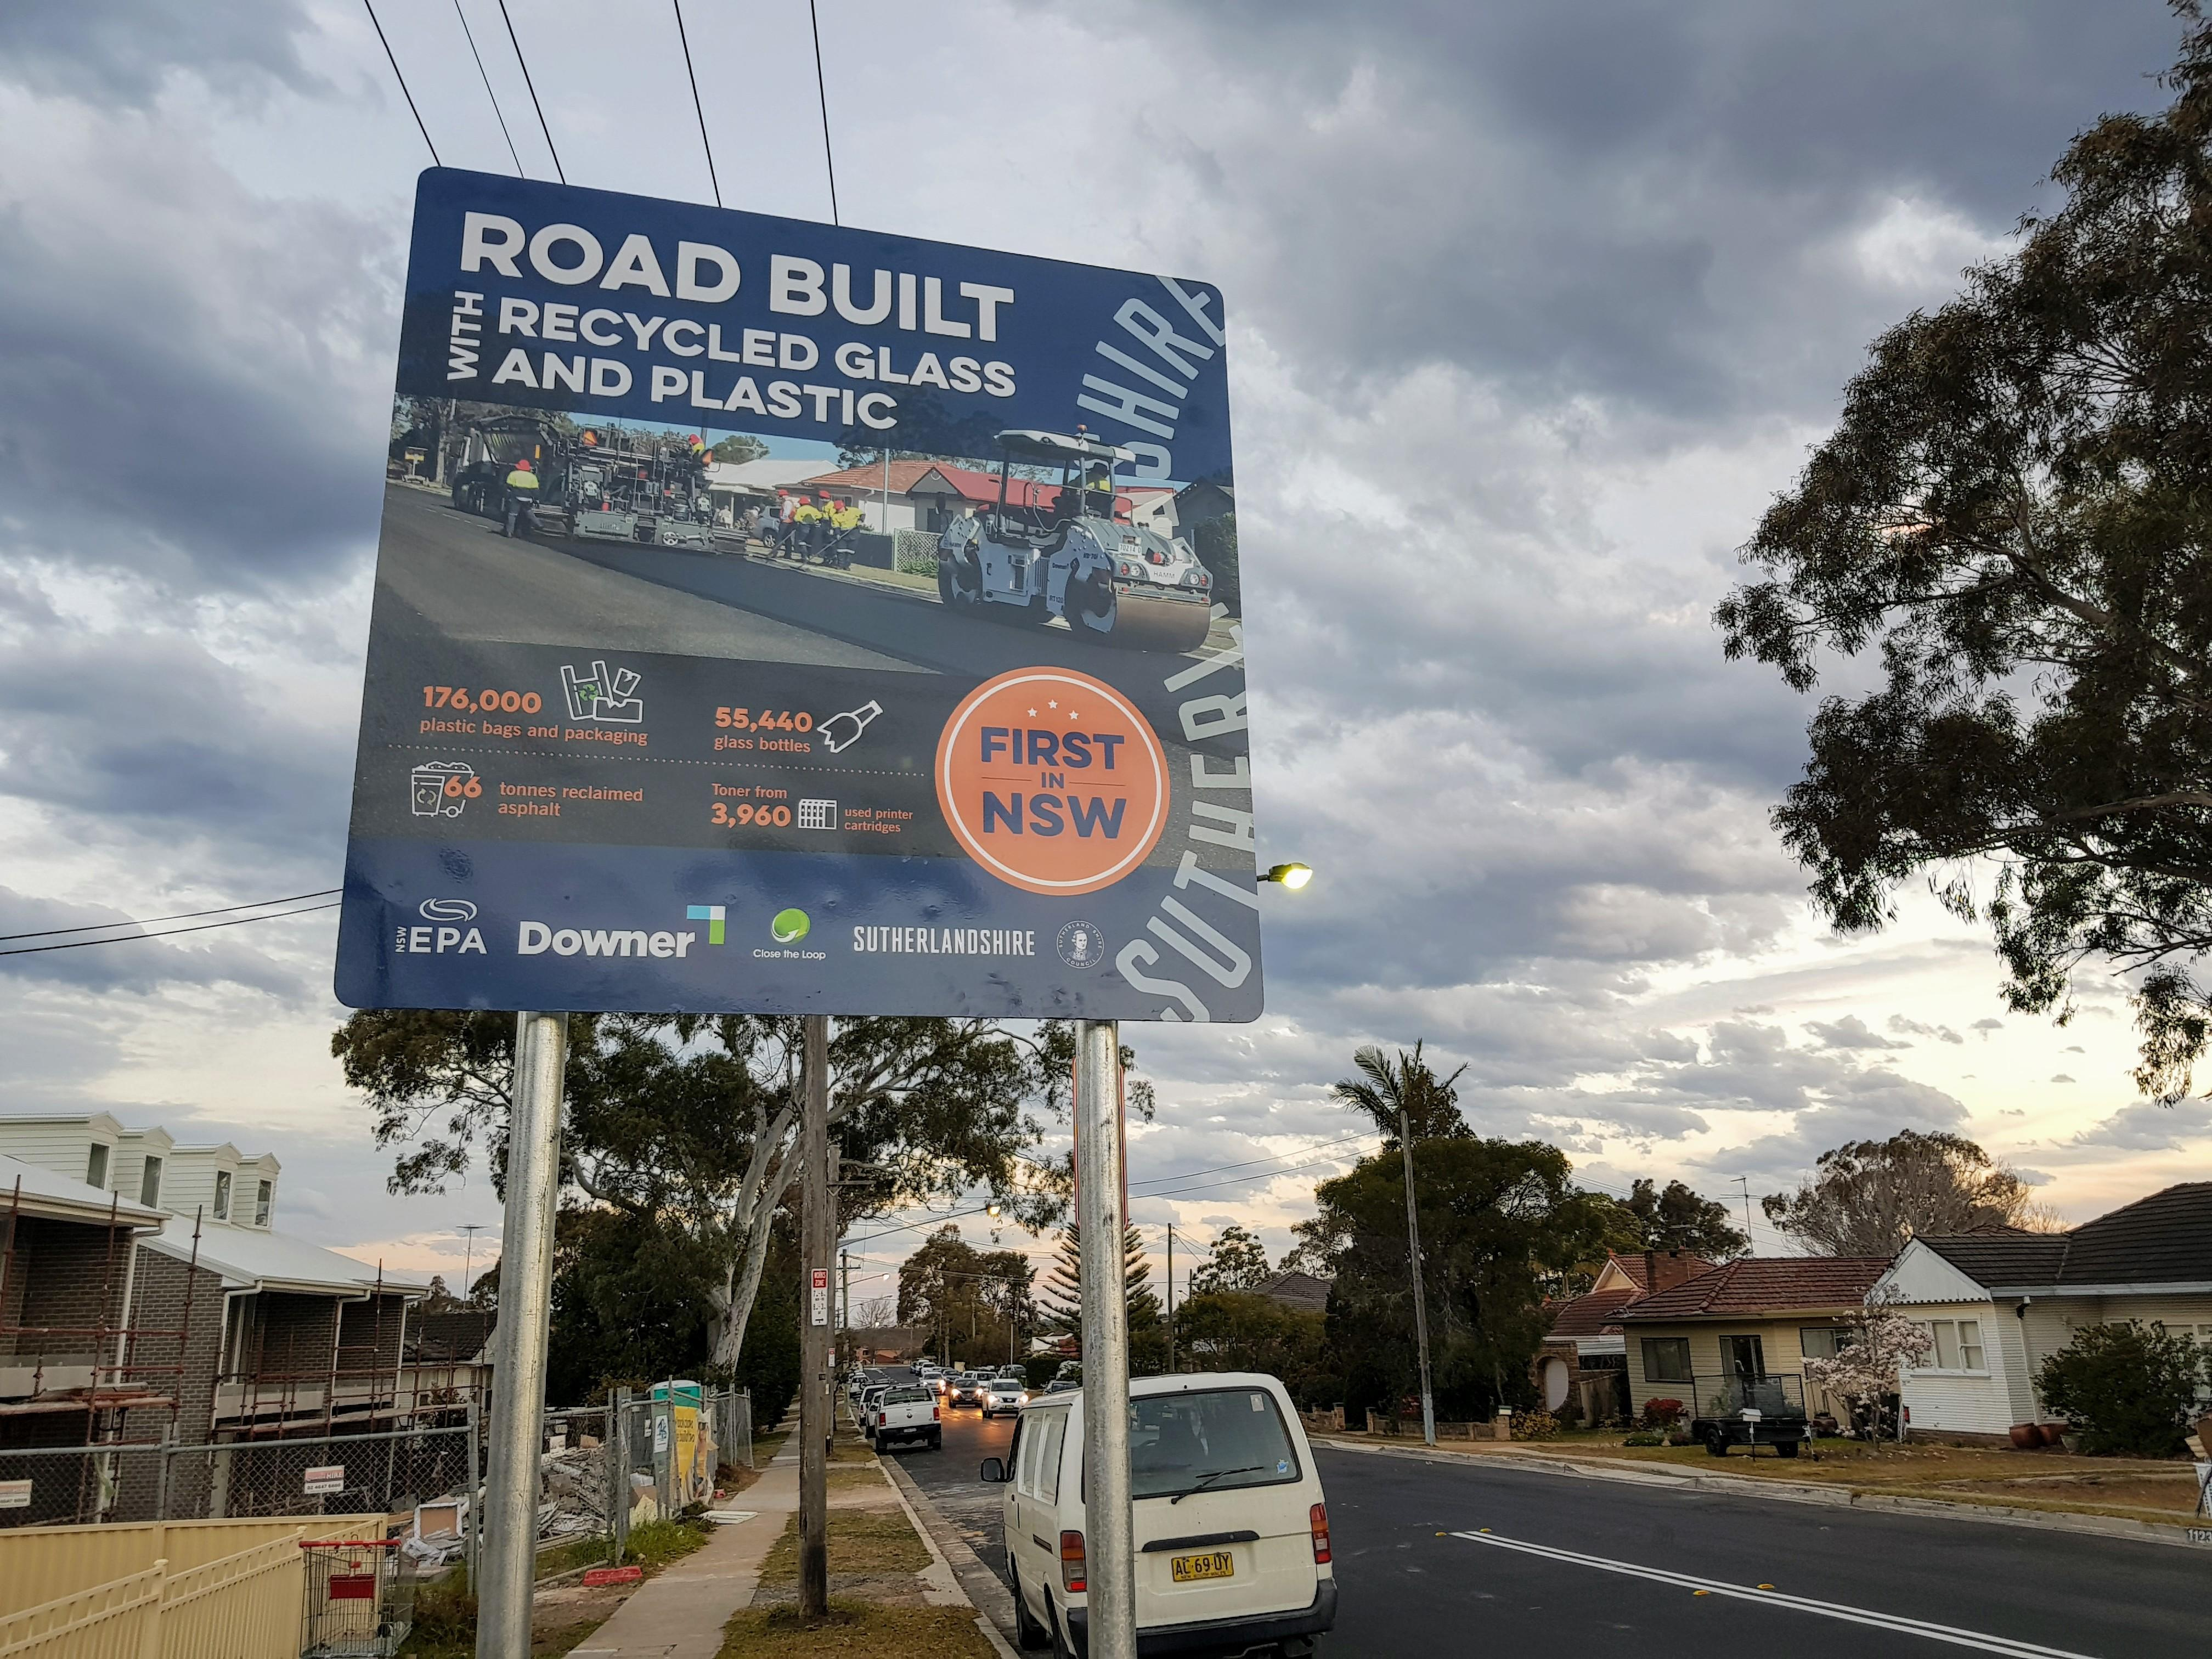car: (1000, 1364, 1357, 1654), (871, 1380, 954, 1453), (963, 1375, 1040, 1422)
cloud: (1285, 0, 1834, 410), (0, 0, 374, 542), (1266, 498, 1764, 847), (2, 570, 359, 840)
indicator: (359, 179, 1252, 1011)
language: (432, 202, 1054, 439), (970, 701, 1143, 864)
light: (1254, 852, 1329, 913)
